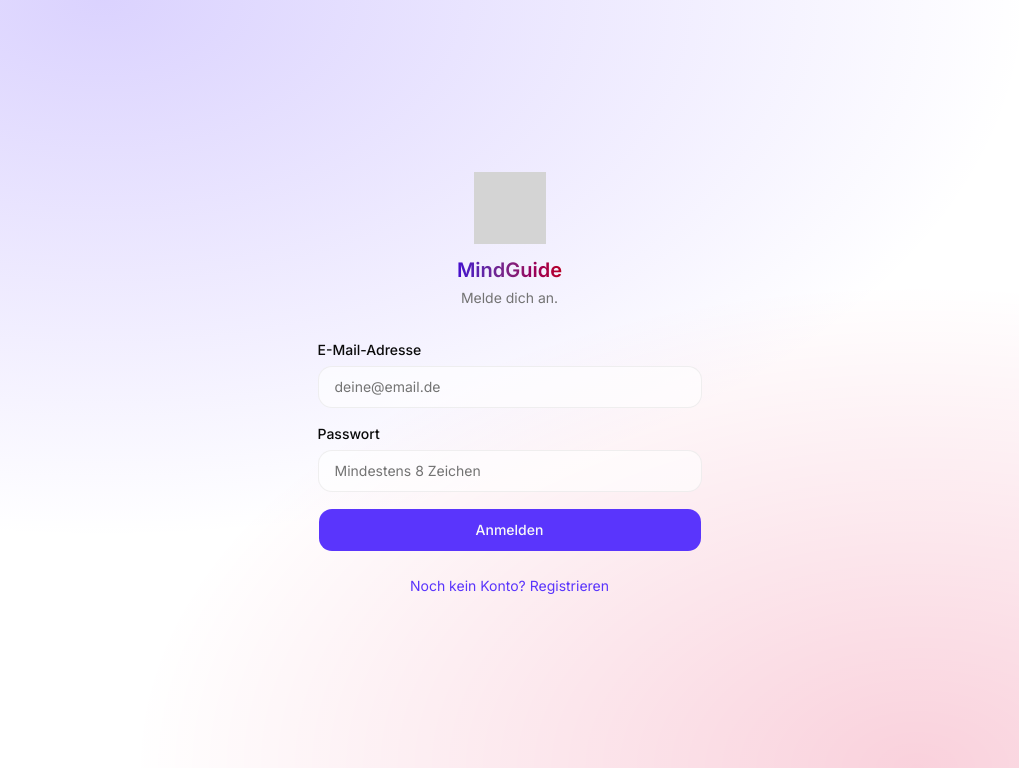
Scenario: AuthForm — login mode › shows generic error on unexpected auth failure
Type "x@x.com" into the field labelled "E-Mail-Adresse" at (510, 387), box [318,366,702,408]
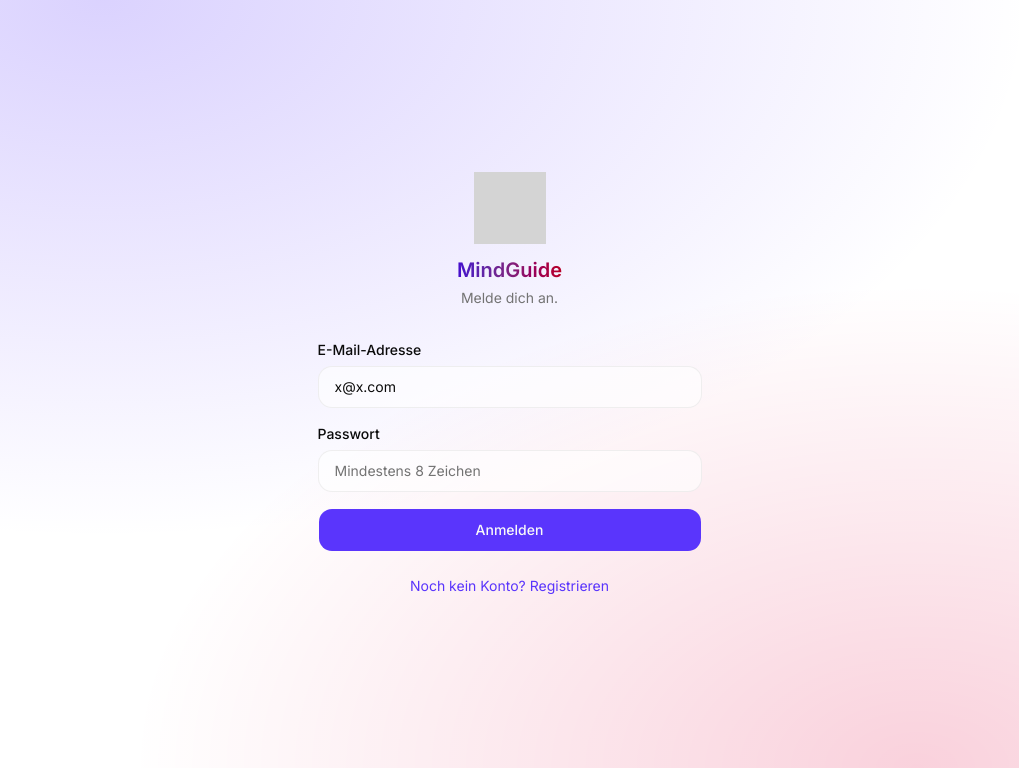
Type "password1" into the password field labelled "Passwort" at (510, 471), box [318,450,702,492]
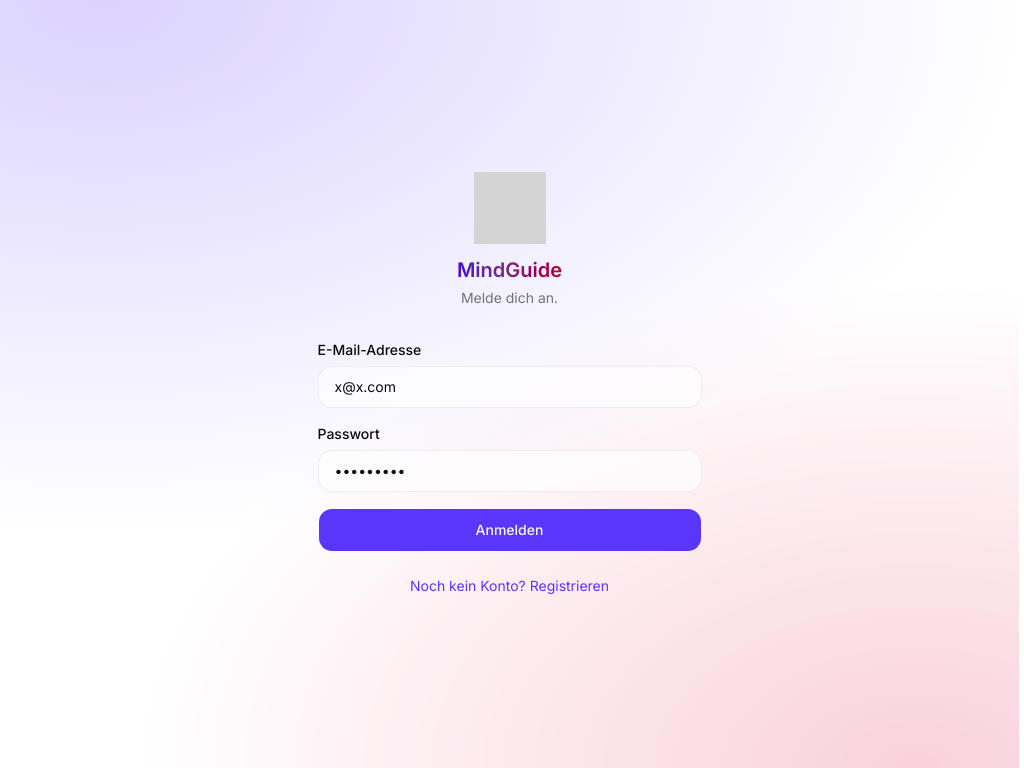
Click the button "Anmelden" at (510, 530), box [318,508,702,552]
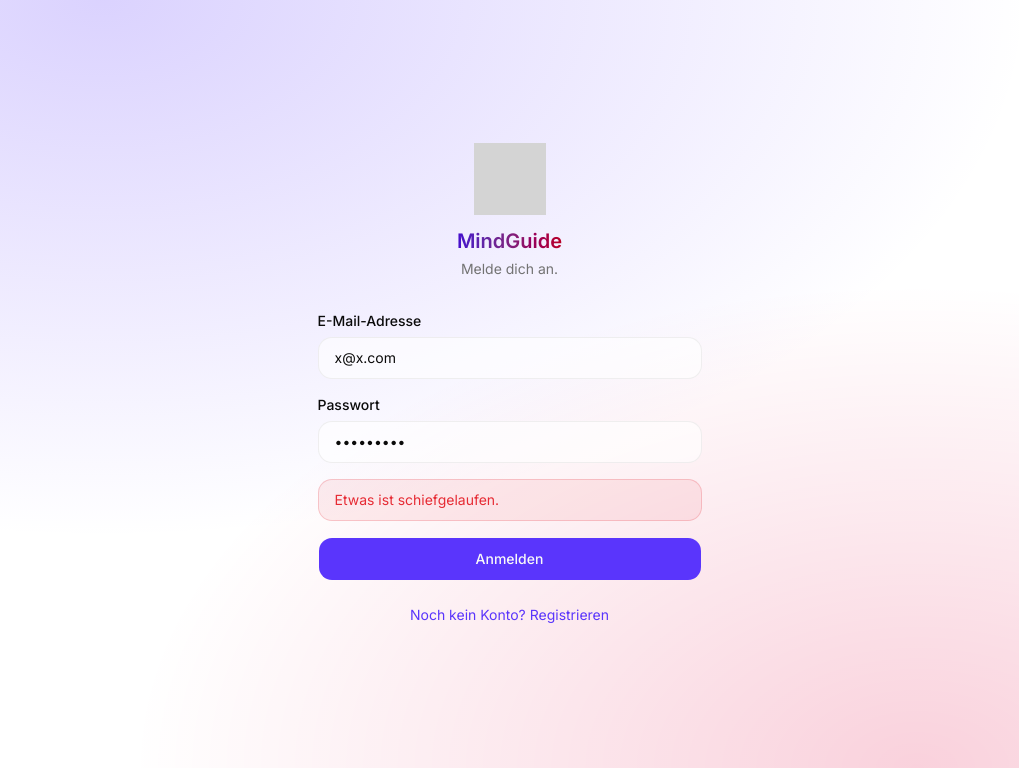
Check: the text "Etwas ist schiefgelaufen." is shown, box [318,479,702,521]
